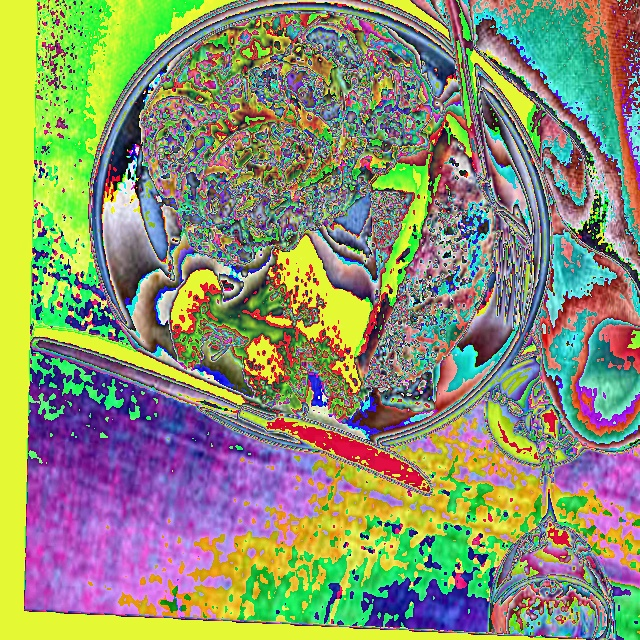background: (124, 114, 612, 638), (141, 17, 497, 424)
